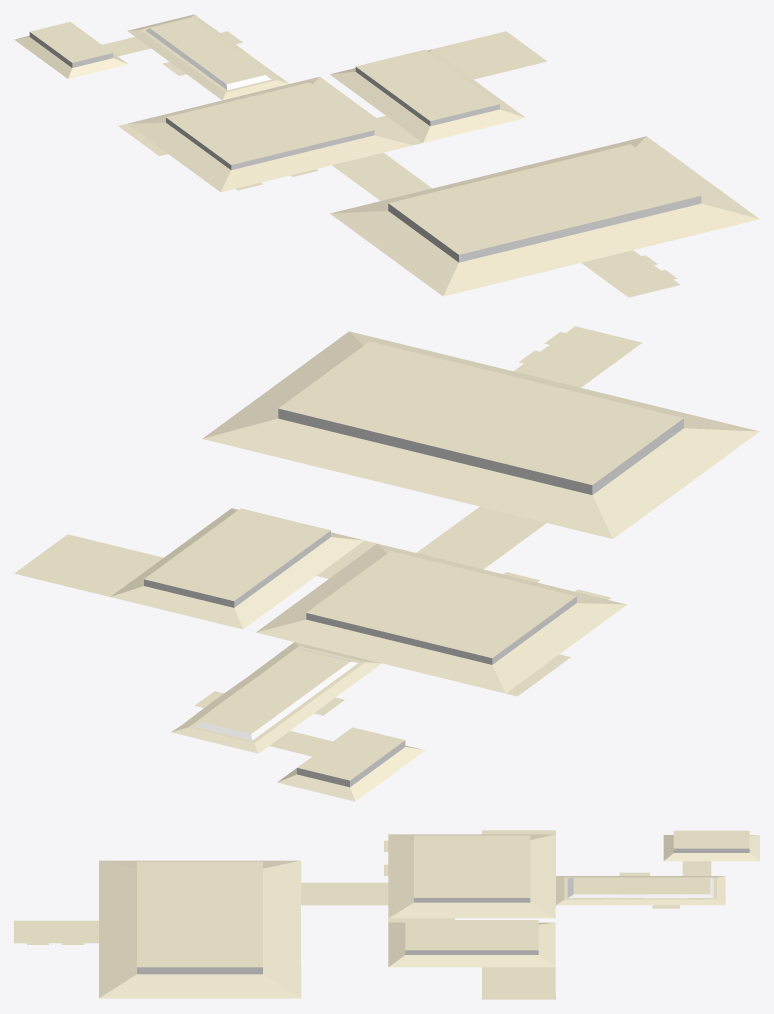
The model's file is Ceiling02.FBX.
The picture shows the model from 3 angles, top to bottom: view 1: azimuth 30°, elevation 25°; view 2: azimuth 150°, elevation 25°; view 3: azimuth 270°, elevation 25°; orthographic projection. The views are drawn at different scales.
Visible parts, largest first — view 1: Object056; view 2: Object056; view 3: Object056.
Boxes of the visible parts, box(x1,y1,x2,y2) form: Object056: box(14, 14, 759, 297); Object056: box(14, 326, 759, 801); Object056: box(14, 830, 759, 999).
Size of the model in its own units: 3535 by 147 by 6592.
